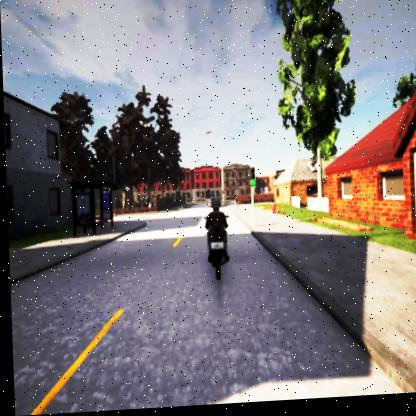motobike: (202, 199, 229, 284)
